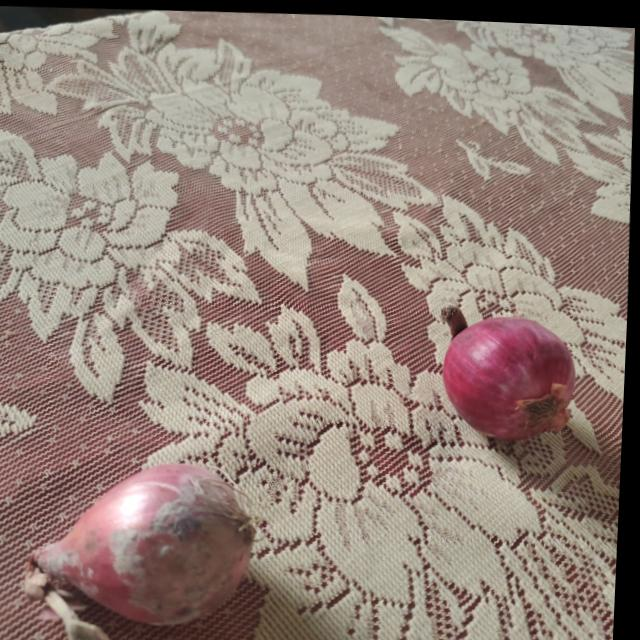onion: (26, 461, 252, 633), (445, 308, 583, 439)
